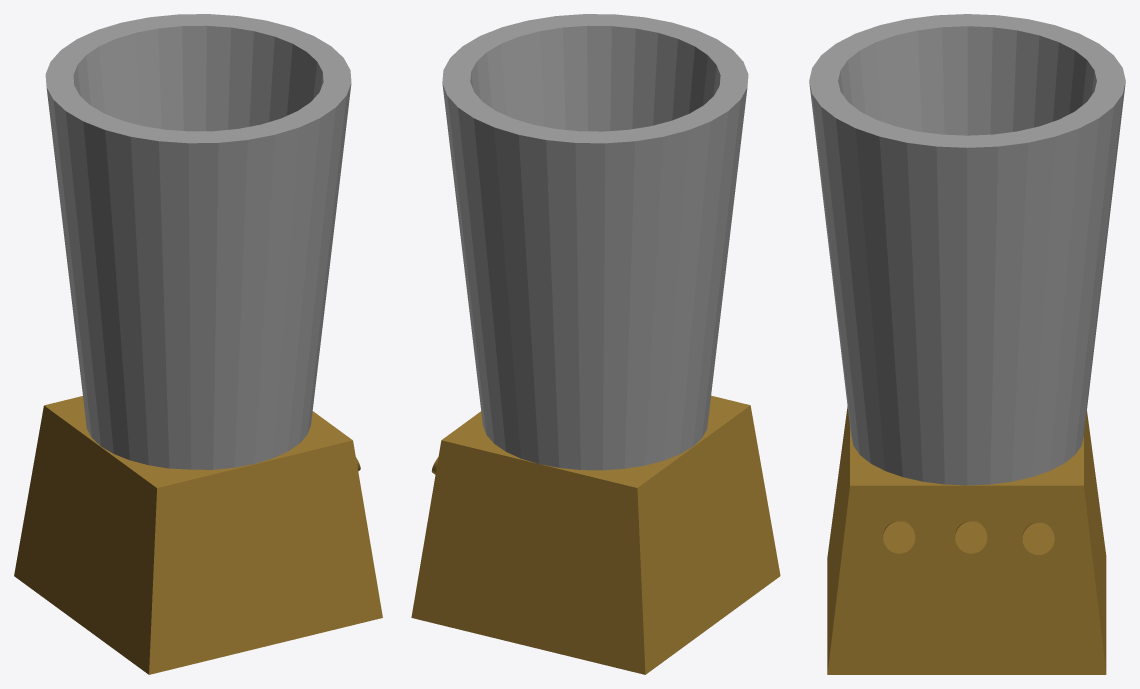
The model's file is blender.obj.
3 renders of one model, left to right at view 1: azimuth 30°, elevation 25°; view 2: azimuth 150°, elevation 25°; view 3: azimuth 270°, elevation 25°, orthographic. The views are drawn at different scales.
Parts seen in each view (by area): view 1: Cylinder; view 2: Cylinder; view 3: Cylinder.
Boxes of the visible parts, x1,y1,x2,y2 form: Cylinder: (14, 14, 382, 674); Cylinder: (411, 14, 780, 674); Cylinder: (809, 14, 1125, 674).
Size of the model in its own units: 0.8059 by 1.5 by 0.8059.
